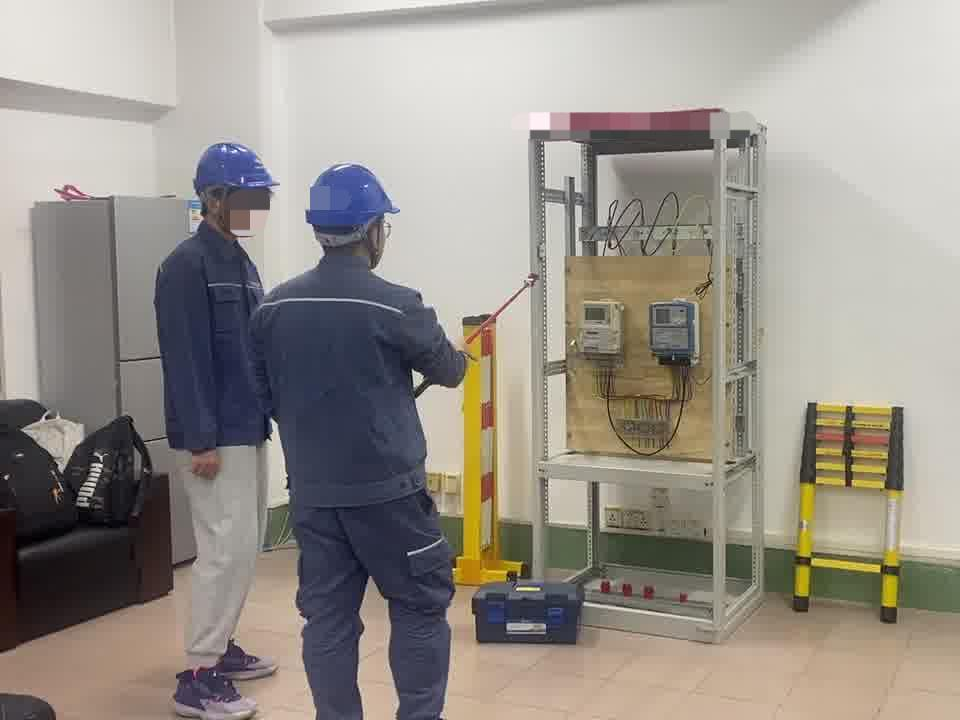halt: (307, 164, 403, 267), (194, 143, 281, 242)
inear: (358, 220, 387, 263), (203, 189, 236, 226)
